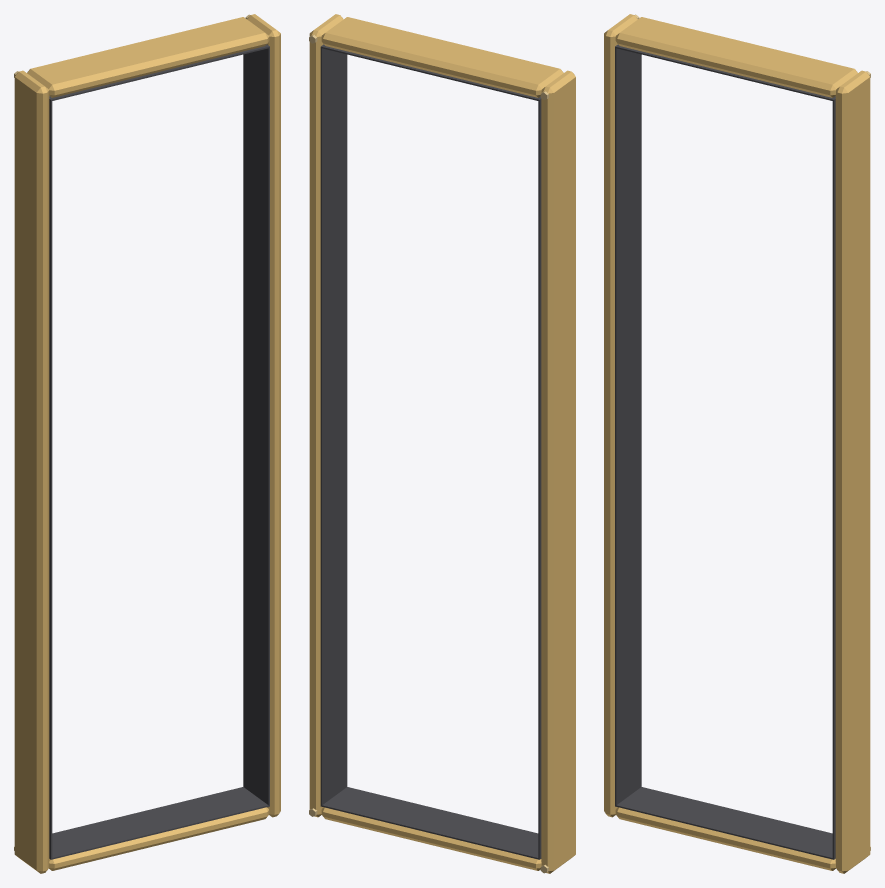
File: Bezel_1x3.fbx
3 renders of one model, left to right at view 1: azimuth 30°, elevation 25°; view 2: azimuth 150°, elevation 25°; view 3: azimuth 330°, elevation 25°, orthographic.
Visible parts, largest first — view 1: Bezel_1x3; view 2: Bezel_1x3; view 3: Bezel_1x3.
Part boxes in pixels (left/top/right/bottom): Bezel_1x3: left=14, top=14, right=280, bottom=873; Bezel_1x3: left=309, top=14, right=575, bottom=873; Bezel_1x3: left=604, top=14, right=870, bottom=873.
Bounding box in the file's own units: 1.06 × 3.26 × 0.211.
